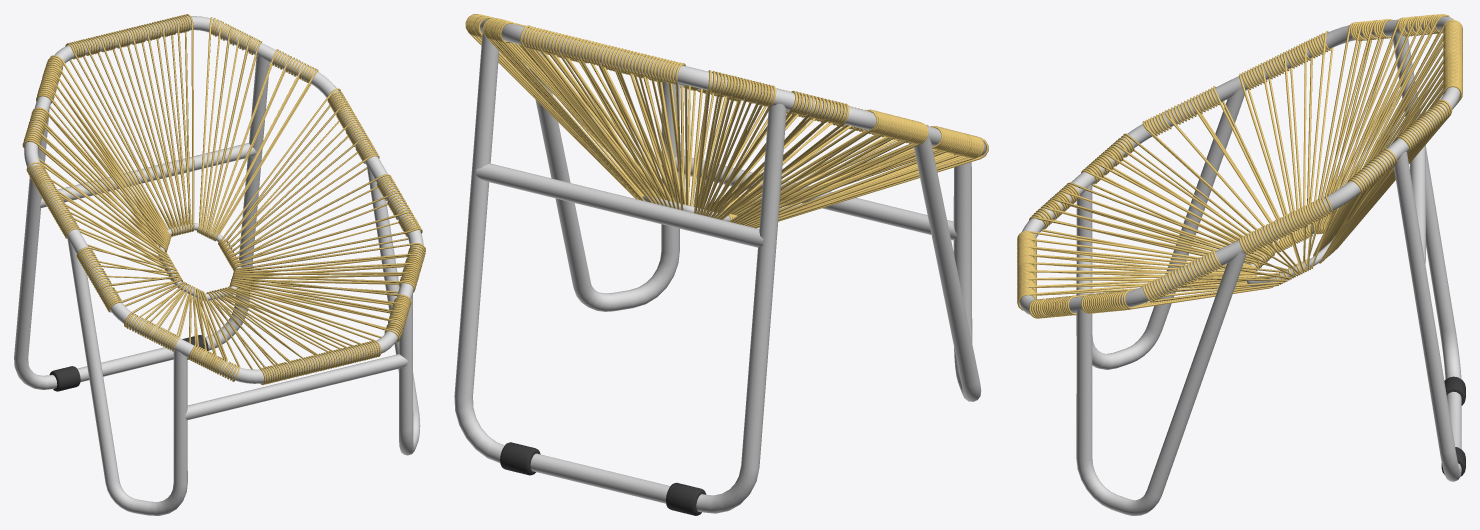
The model's file is Stul2.glb.
The picture shows the model from 3 angles, left to right: view 1: azimuth 30°, elevation 25°; view 2: azimuth 150°, elevation 25°; view 3: azimuth 270°, elevation 25°; orthographic projection. The views are drawn at different scales.
Parts seen in each view (by area): view 1: Tiles, Base, Stand; view 2: Base, Tiles, Stand; view 3: Tiles, Base, Stand.
Boxes of the visible parts, x1=… form: Tiles: x1=22, y1=14, x2=425, y2=385; Base: x1=14, y1=16, x2=423, y2=515; Stand: x1=49, y1=335, x2=208, y2=391; Base: x1=454, y1=19, x2=985, y2=513; Tiles: x1=465, y1=14, x2=988, y2=228; Stand: x1=500, y1=442, x2=706, y2=515; Tiles: x1=1017, y1=14, x2=1462, y2=318; Base: x1=1019, y1=16, x2=1461, y2=515; Stand: x1=1441, y1=376, x2=1465, y2=476.
Size of the model in its own units: 8.41 by 8.8 by 9.26.
